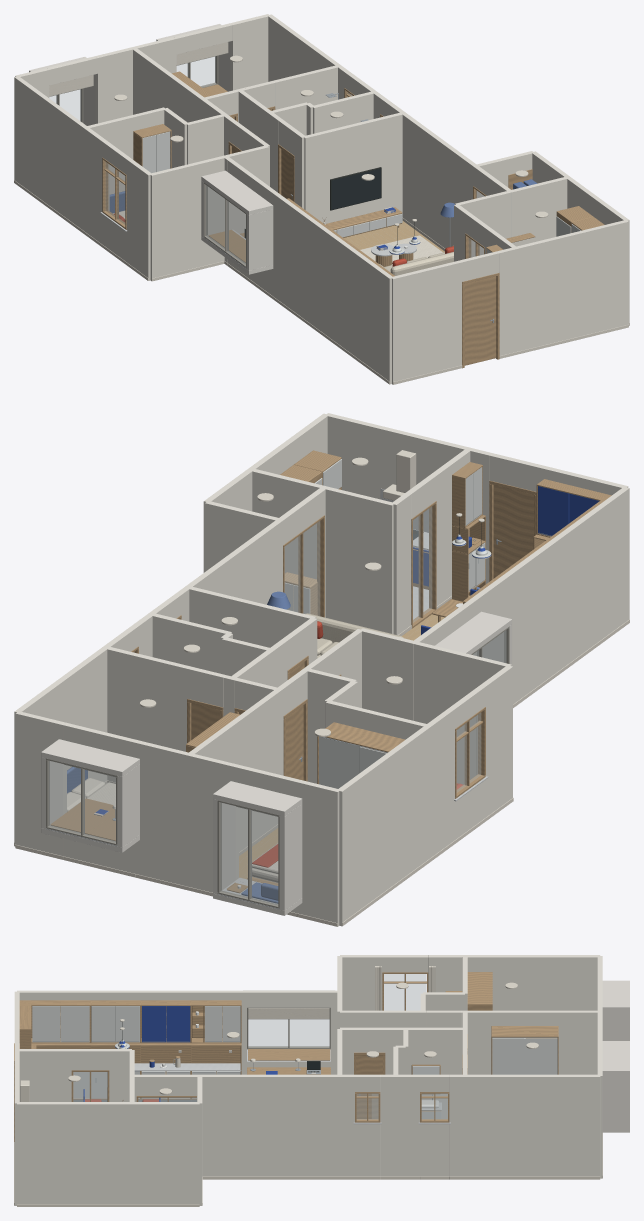
Rendered from house.glb.
3 views of the same model, one above another, from view 1: azimuth 30°, elevation 25°; view 2: azimuth 150°, elevation 25°; view 3: azimuth 270°, elevation 25° (orthographic). The views are drawn at different scales.
Visible parts, largest first — view 1: Wall 04 / pier.001, Wall 03 / pier.001, Wall 01 / pier, Wall 13 / pier, Wall 04 / pier, Wall 07 / pier.002, Wall 02 / pier, Wall 00 / pier.001, Wall 08 / pier, Wall 15 / pier, Wall 07 / pier, entry_door / oak door leaf (+42 smaller); view 2: Wall 03 / pier.001, Wall 01 / pier, Wall 00 / pier.001, Wall 16 / pier, Wall 04 / pier.001, Wall 10 / pier.002, Wall 02 / pier, Wall 08 / pier, Wall 00 / pier, Wall 00 / pier.002, Wall 07 / pier, Wall 07 / pier.002 (+55 smaller); view 3: Wall 05 / pier, Wall 07 / pier.002, Wall 07 / pier, Wall 01 / pier, Wall 08 / pier, Wall 07 / pier.001, Wall 11 / pier, Wall 03 / pier.001, Wall 17 / pier.001, Wall 01 / pier.001, Wall 07 / sill, Wall 03 / lintel (+52 smaller).
Part boxes in pixels (x1,y1,x2,y2): Wall 04 / pier.001: (497,220,628,355); Wall 03 / pier.001: (271,191,393,384); Wall 01 / pier: (14,76,106,244); Wall 13 / pier: (304,112,402,223); Wall 04 / pier: (391,260,461,384); Wall 07 / pier.002: (393,107,476,248); Wall 02 / pier: (150,155,226,280); Wall 00 / pier.001: (95,37,176,123); Wall 08 / pier: (132,48,206,122); Wall 15 / pier: (511,177,568,246); Wall 07 / pier: (268,14,348,99); entry_door / oak door leaf: (464,276,496,365); Wall 03 / pier.001: (473,487,629,704); Wall 01 / pier: (339,708,454,926); Wall 00 / pier.001: (135,740,238,892); Wall 16 / pier: (324,486,394,634); Wall 04 / pier.001: (325,413,492,583); Wall 10 / pier.002: (107,647,190,782); Wall 02 / pier: (413,641,511,784); Wall 08 / pier: (188,687,283,851); Wall 00 / pier: (297,780,340,926); Wall 00 / pier.002: (15,711,66,856); Wall 07 / pier: (14,639,118,846); Wall 07 / pier.002: (175,519,282,621); Wall 05 / pier: (17,1102,199,1203); Wall 07 / pier.002: (199,1074,354,1176); Wall 07 / pier: (449,1074,600,1176); Wall 01 / pier: (428,955,600,1010); Wall 08 / pier: (462,1010,599,1074); Wall 07 / pier.001: (380,1074,419,1176); Wall 11 / pier: (385,1027,464,1118); Wall 03 / pier.001: (17,990,246,1074); Wall 17 / pier.001: (17,1049,71,1101); Wall 01 / pier.001: (340,955,382,1010); Wall 07 / sill: (420,1124,449,1176); Wall 03 / lintel: (247,990,330,1007).
Bounding box in the file's own units: 8.46 × 2.71 × 14.67.
Materials: 36 (14 with a texture image).
